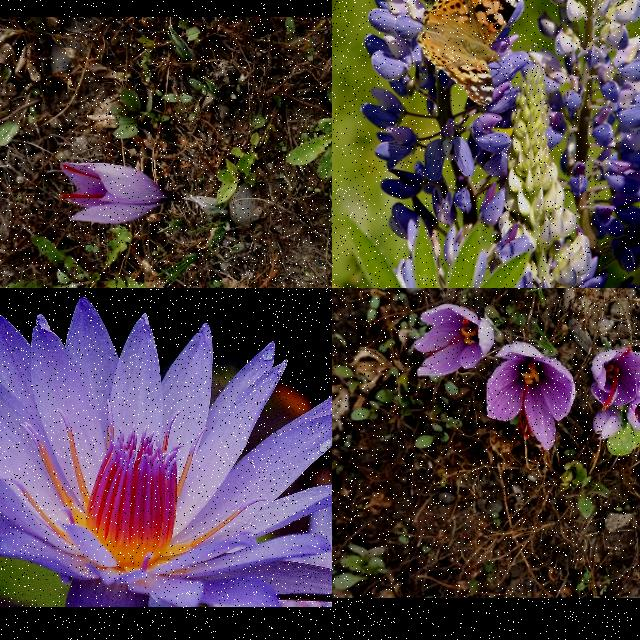flower: (485, 341, 577, 452), (60, 162, 170, 224), (412, 303, 496, 377), (590, 346, 640, 411), (626, 378, 640, 431)
